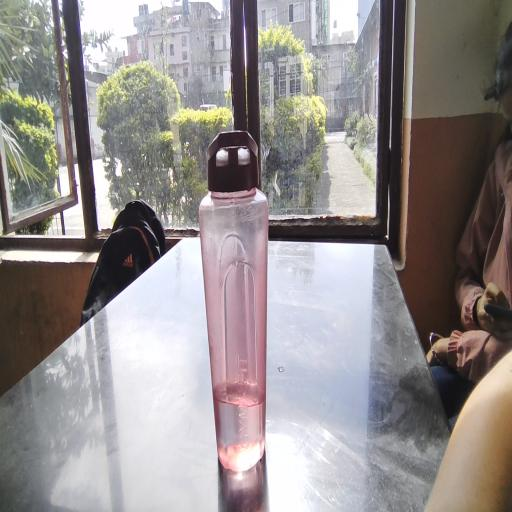Bottle: (194, 104, 287, 494)
